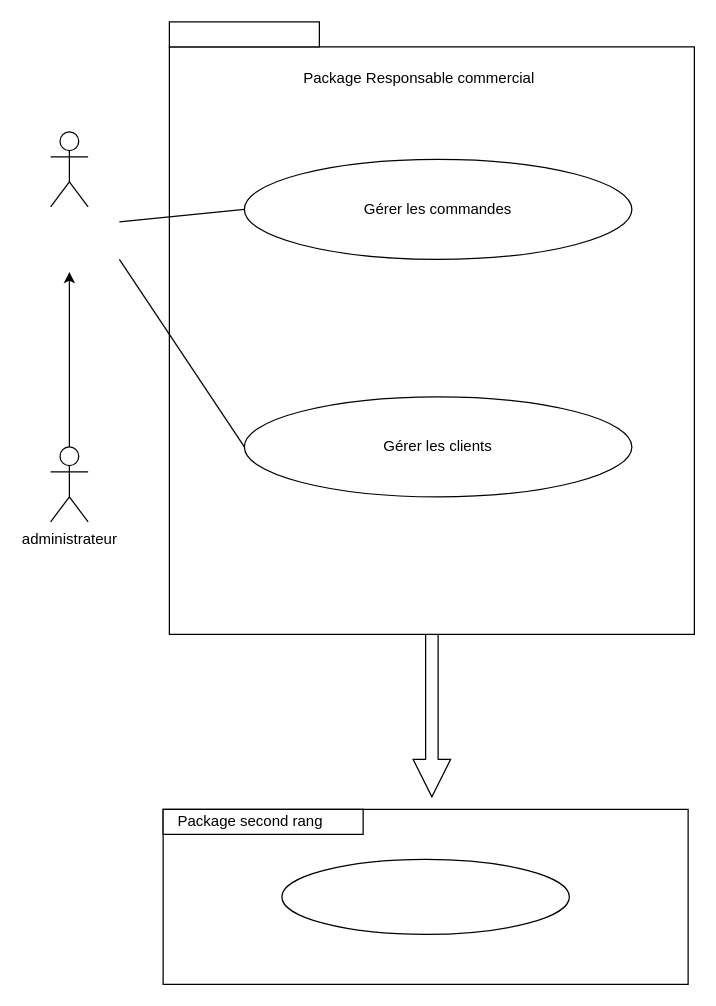
The diagram is 716 pixels wide and 1006 high, and some of its shapes have lost their labels. The shapes that lost their labels are listed below. From the top down, each one's box as (x1, y1, x2, y2) in pixels, then its label:
(49, 131, 88, 207): Responsable Commercial
(281, 858, 569, 934): S'authentifier
